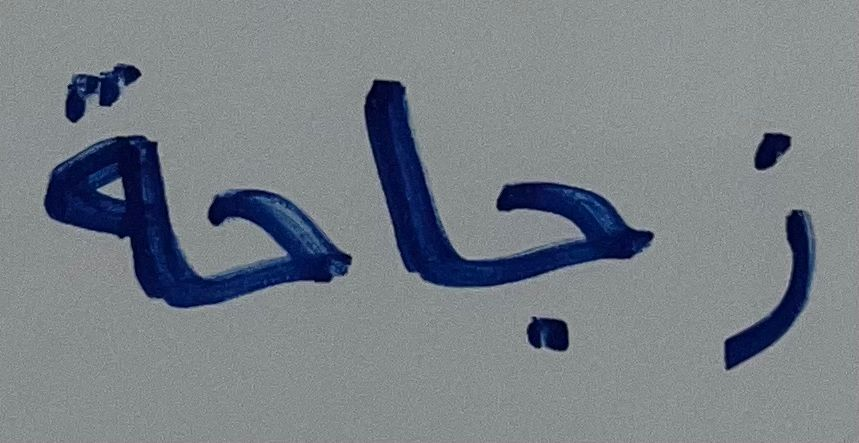alef: (364, 61, 463, 293)
hah: (194, 168, 355, 318)
jeem: (467, 150, 669, 362)
noon: (701, 105, 825, 380)
teh_marbota: (23, 51, 189, 323)
